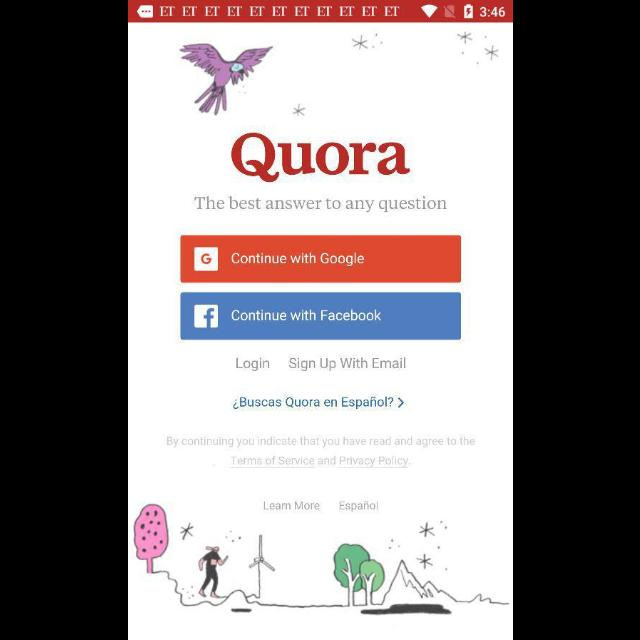backgroundimage: (128, 24, 512, 640)
text: (167, 436, 475, 469), (230, 132, 410, 184), (194, 196, 446, 214), (232, 396, 404, 410), (288, 357, 406, 371), (262, 502, 320, 511), (338, 501, 378, 513), (236, 358, 270, 372)
textbutton: (180, 292, 460, 340), (180, 235, 460, 282)
uppertaskbar: (128, 1, 512, 23)
